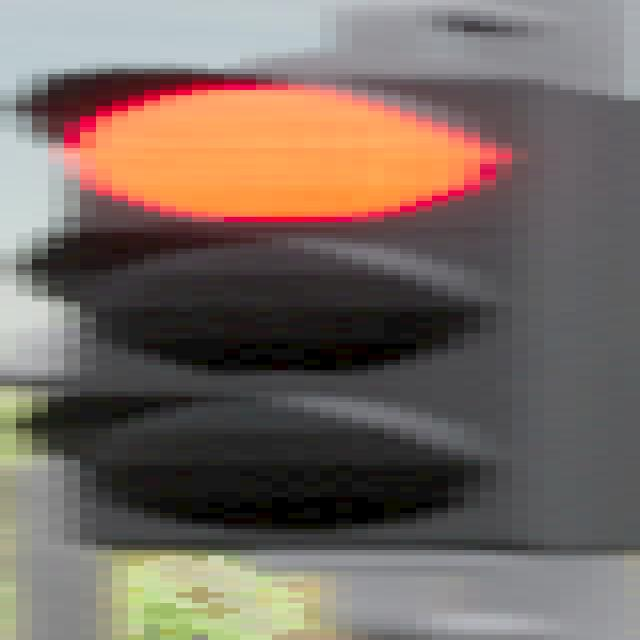red_light: (0, 71, 632, 553)
